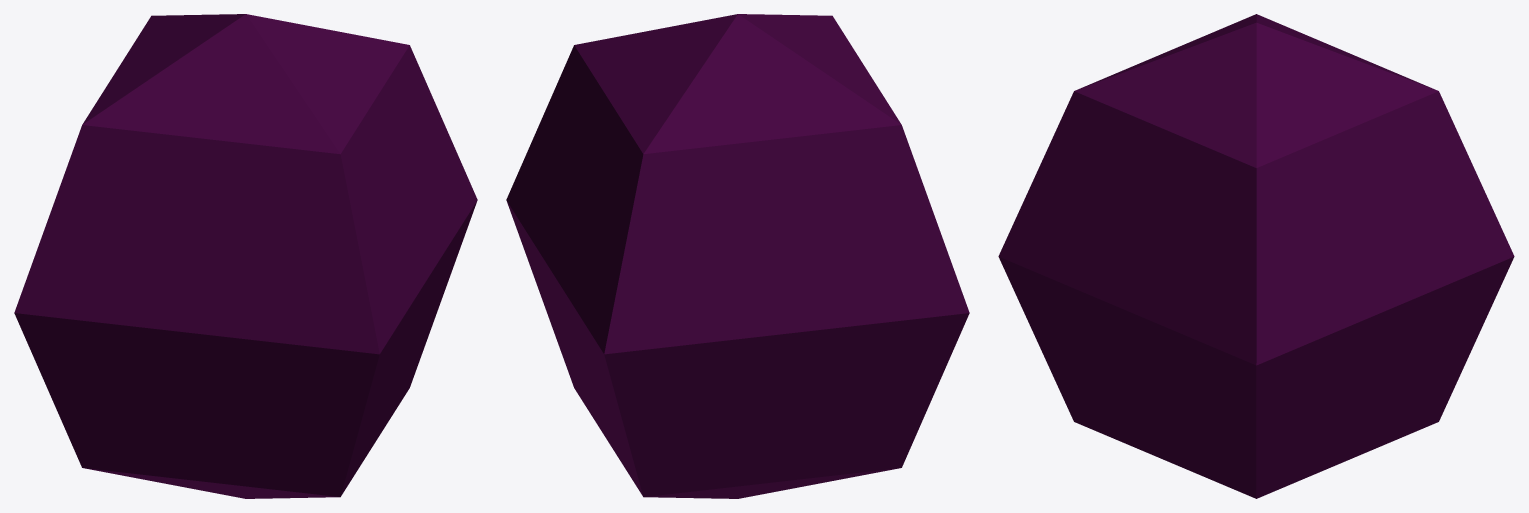
File: bullet.fbx
The picture shows the model from 3 angles, left to right: view 1: azimuth 30°, elevation 25°; view 2: azimuth 150°, elevation 25°; view 3: azimuth 270°, elevation 25°; orthographic projection. The views are drawn at different scales.
Parts seen in each view (by area): view 1: Sphere; view 2: Sphere; view 3: Sphere.
Part boxes in pixels (x1,y1,x2,y2): Sphere: [14, 14, 477, 498]; Sphere: [506, 14, 969, 498]; Sphere: [998, 14, 1514, 498].
Bounding box in the file's own units: 2 × 2 × 2.
